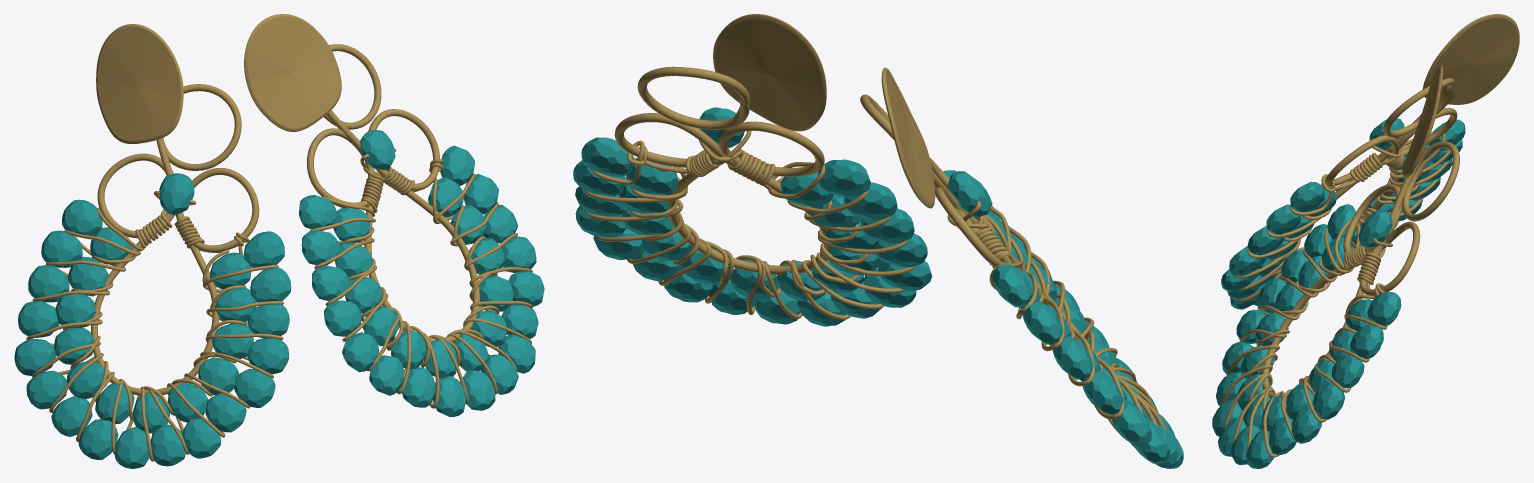
Rendered from Arete.glb.
The picture shows the model from 3 angles, left to right: view 1: azimuth 30°, elevation 25°; view 2: azimuth 150°, elevation 25°; view 3: azimuth 270°, elevation 25°; orthographic projection. The views are drawn at different scales.
Visible parts, largest first — view 1: Plato.001, Plato; view 2: Plato, Plato.001; view 3: Plato, Plato.001.
Part boxes in pixels (left/top/right/bottom): Plato.001: left=14, top=24, right=291, bottom=468; Plato: left=244, top=14, right=544, bottom=416; Plato: left=573, top=14, right=932, bottom=326; Plato.001: left=860, top=67, right=1183, bottom=468; Plato: left=1212, top=65, right=1459, bottom=468; Plato.001: left=1221, top=14, right=1519, bottom=309.
Bounding box in the file's own units: 0.4946 × 0.3347 × 0.2766.
